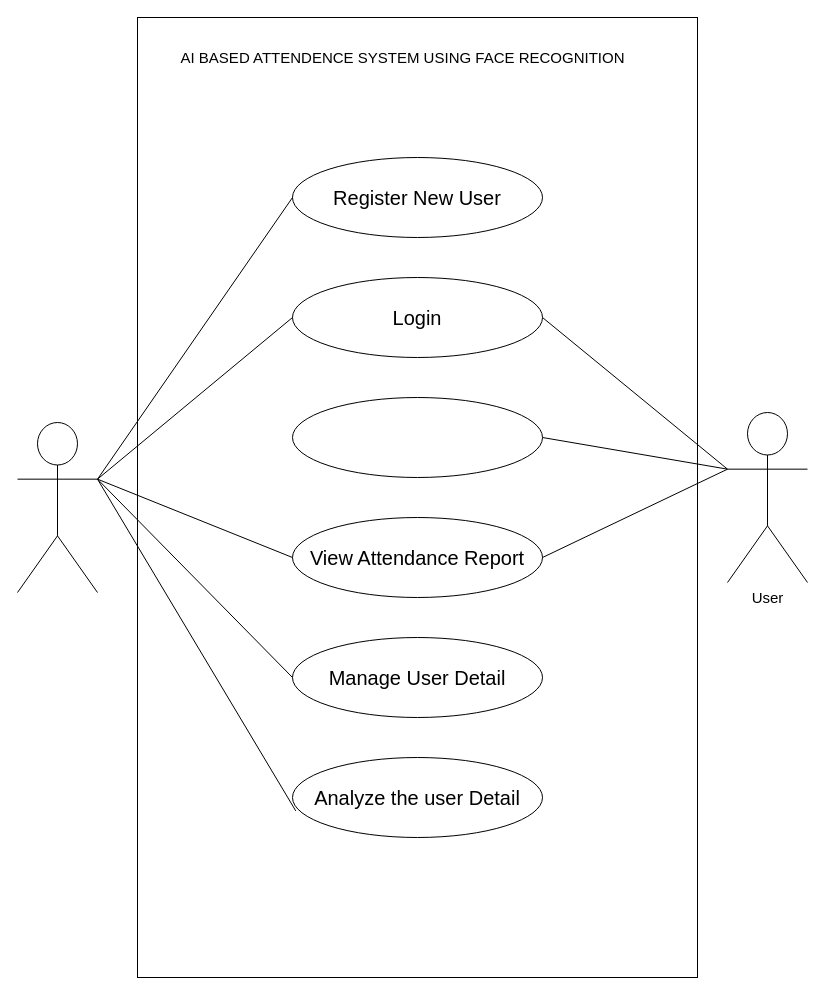
This 825x995 diagram has some shape labels left out. The centre of each missing label's shape, as x and y in pixels:
"Admin" goes at (57,507).
"Mark Attendance" goes at (417,437).
